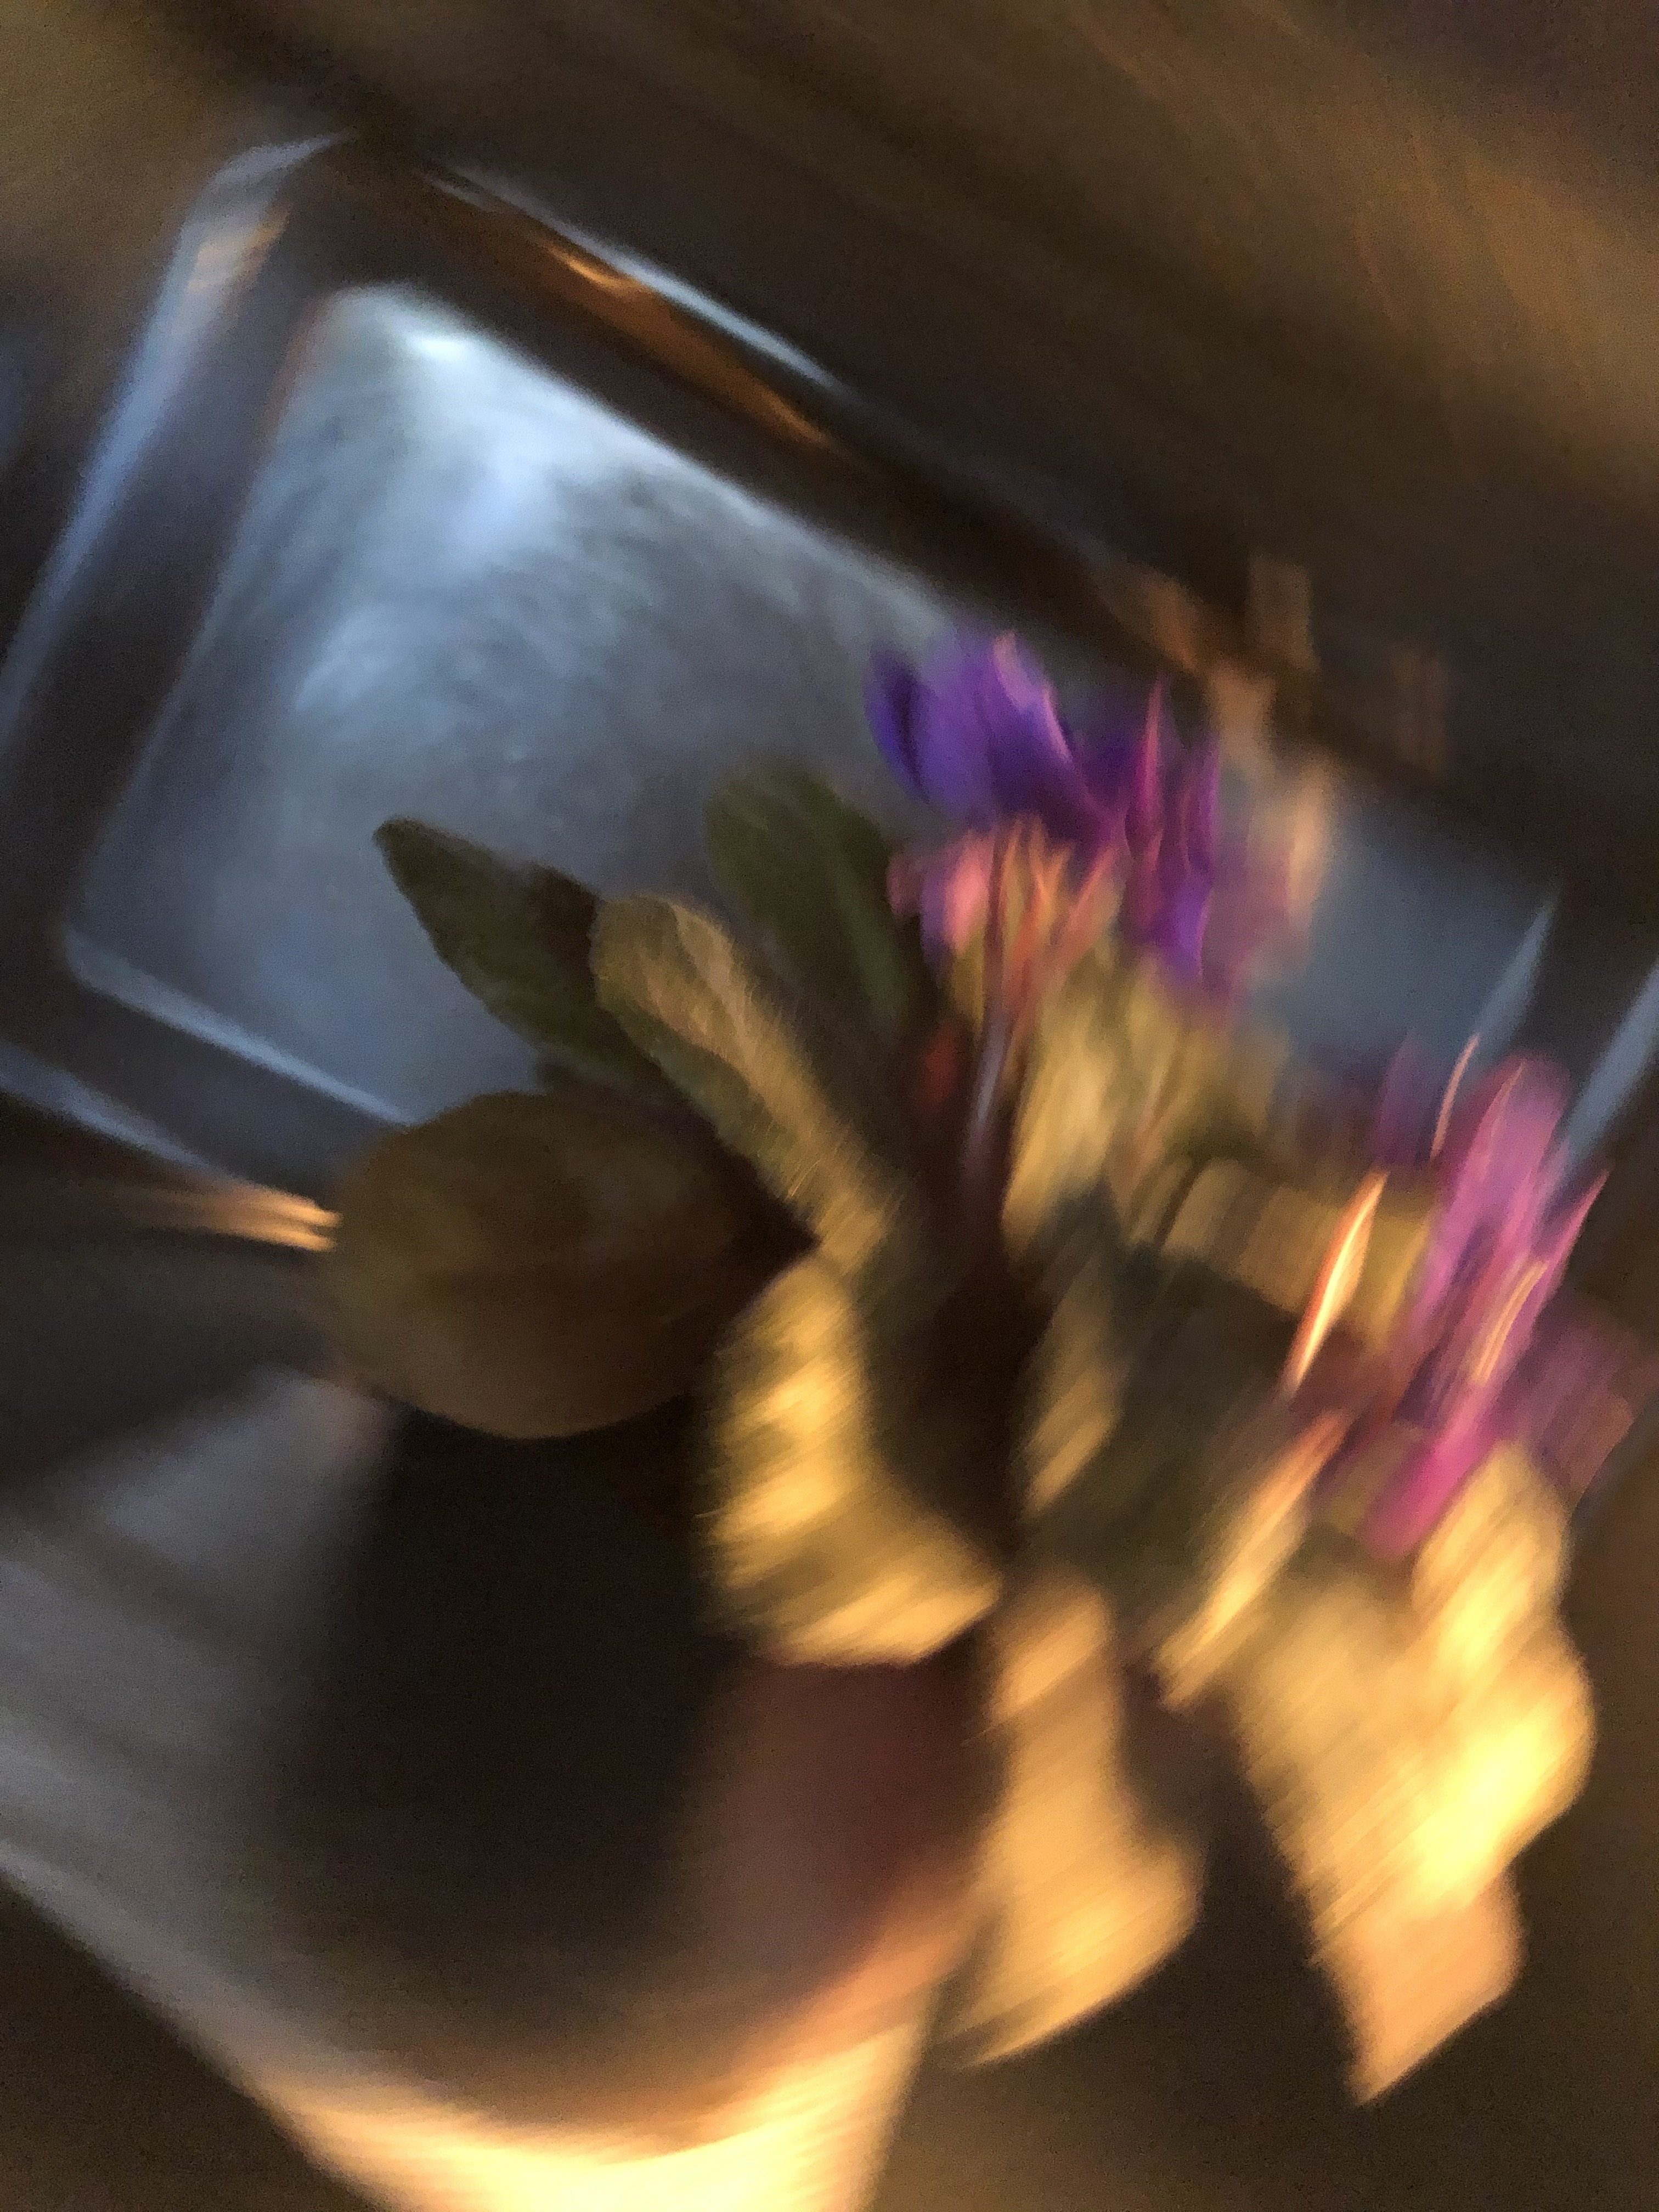ignore: (310, 510, 1642, 2111)
